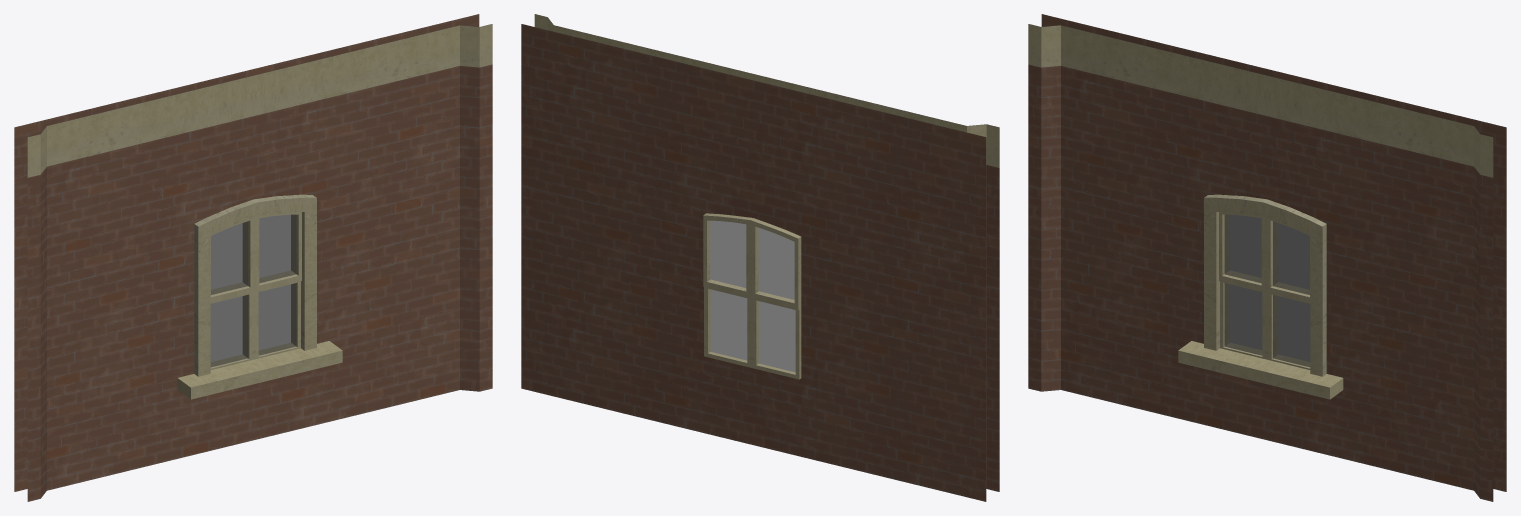
The model's file is brick_inset_window_curved_small.glb.
The picture shows the model from 3 angles, left to right: view 1: azimuth 30°, elevation 25°; view 2: azimuth 150°, elevation 25°; view 3: azimuth 330°, elevation 25°; orthographic projection.
Visible parts, largest first — view 1: Brick_Inset_Window_Curved_Small; view 2: Brick_Inset_Window_Curved_Small; view 3: Brick_Inset_Window_Curved_Small.
Boxes of the visible parts, x1,y1,x2,y2 form: Brick_Inset_Window_Curved_Small: (14, 14, 492, 501); Brick_Inset_Window_Curved_Small: (521, 14, 999, 501); Brick_Inset_Window_Curved_Small: (1028, 14, 1506, 501).
Size of the model in its own units: 4 by 3 by 0.3426.
5 materials, 3 textured.
